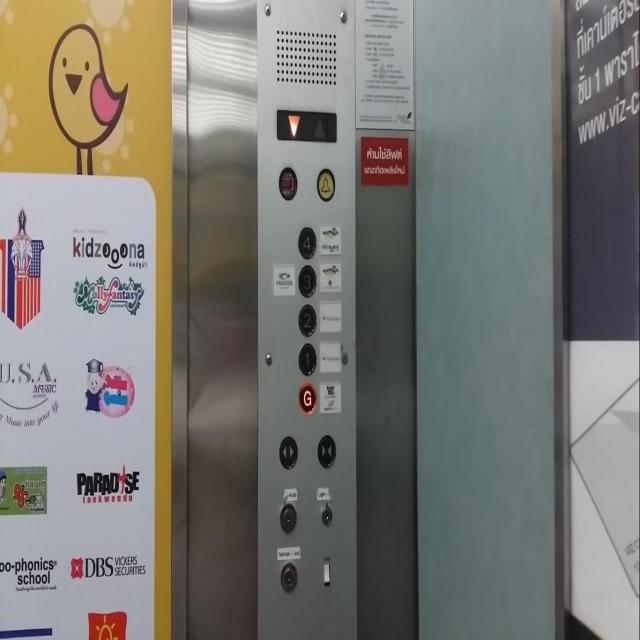1: (298, 341, 316, 376)
2: (298, 302, 316, 336)
3: (297, 264, 317, 298)
4: (296, 223, 316, 260)
G: (298, 381, 316, 415)
alarm: (316, 167, 334, 201)
bt_switch: (278, 166, 297, 201)
close: (317, 435, 335, 467)
keyhole: (278, 558, 302, 594), (279, 501, 297, 532), (319, 496, 334, 532)
open: (278, 434, 298, 468)
switch: (319, 552, 336, 592)
